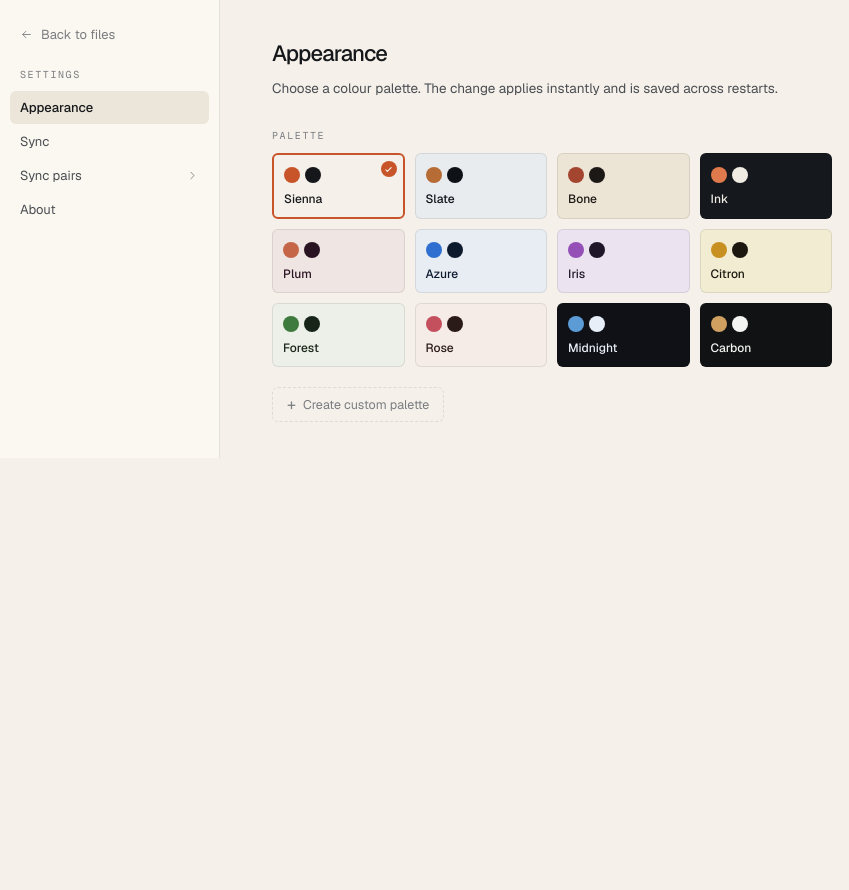
Test: SettingsScene › switches to Sync section
Step 1. Click the button "Sync" → (110, 141), box [10,124,209,158]
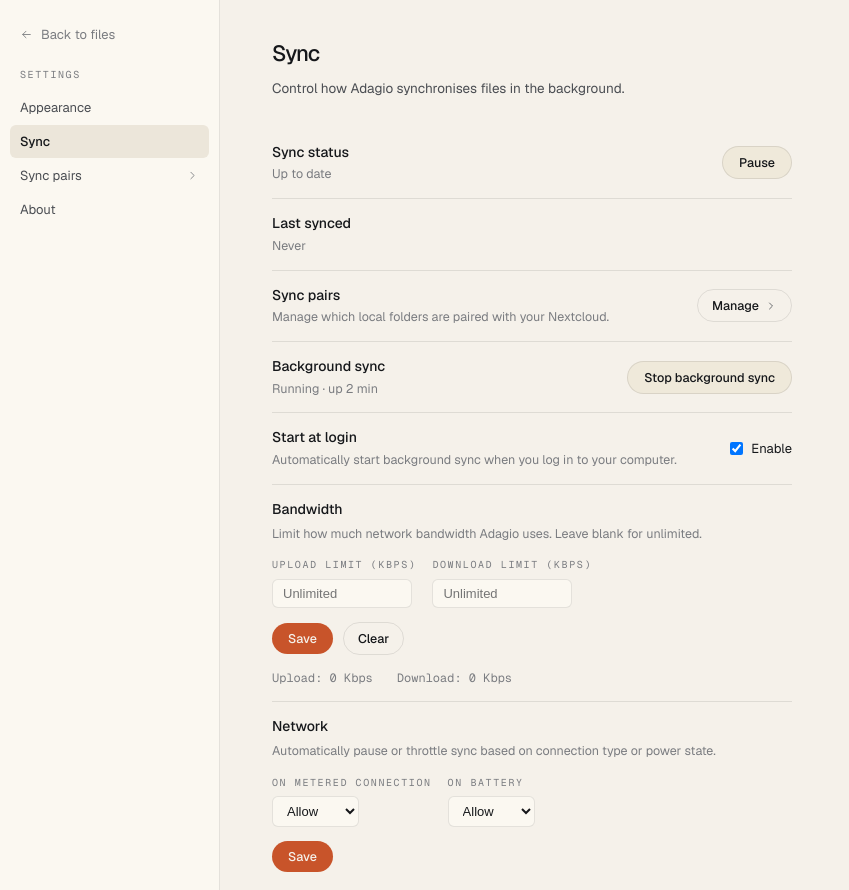
Expected: the text "Sync status" is shown, [272,142,349,163]
